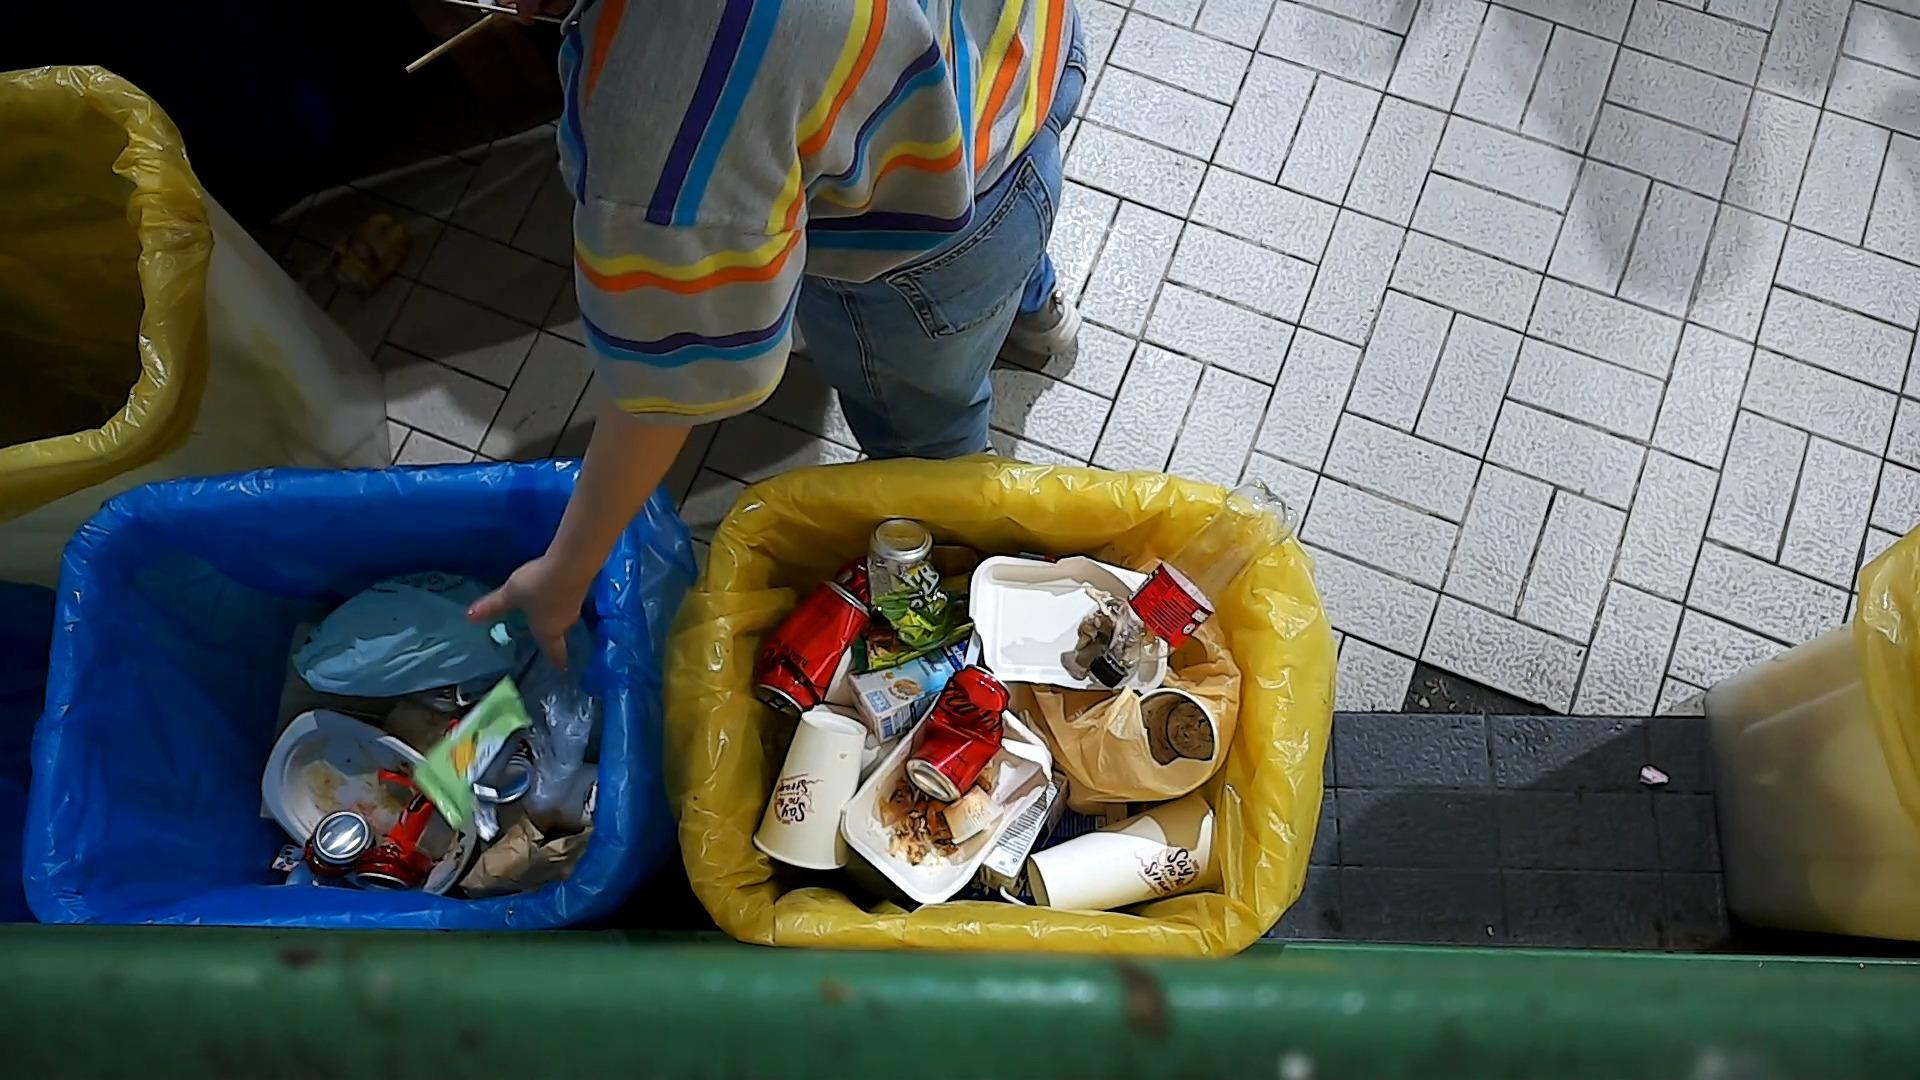can: (749, 575, 874, 721), (901, 662, 1015, 806), (864, 514, 957, 655), (301, 806, 378, 884), (352, 839, 433, 891)
dirty food container: (836, 686, 1056, 910), (965, 549, 1174, 695), (938, 778, 1007, 847)
filled plastic bag: (1027, 625, 1254, 816), (285, 562, 545, 702)
food container: (252, 700, 484, 897)
milk carton: (847, 632, 975, 753), (980, 762, 1073, 911)
paper bag: (451, 802, 597, 903)
plastic bag: (514, 584, 603, 819)
plastic bottle: (1084, 472, 1307, 690)
snack packaging: (407, 670, 539, 844), (373, 769, 436, 861)
sticks: (401, 11, 504, 79), (442, 0, 580, 28)
zero waste cup: (1023, 787, 1226, 918), (749, 708, 868, 873)
